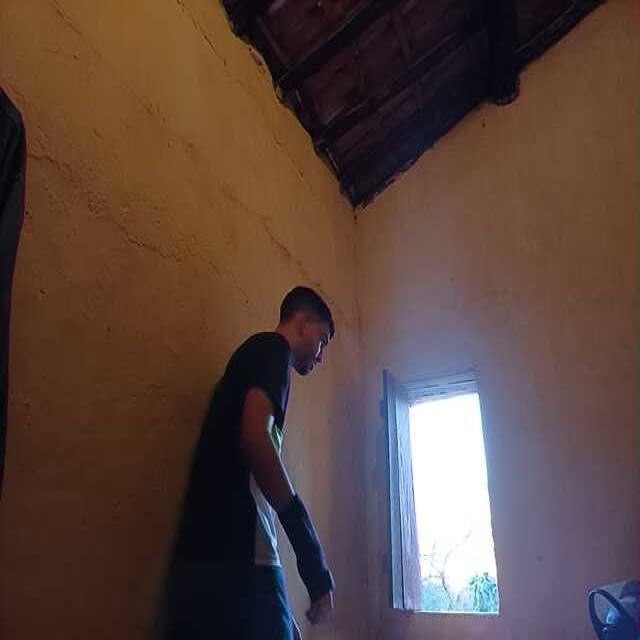capacete: (580, 569, 640, 640)
pessoa: (176, 290, 339, 640)
